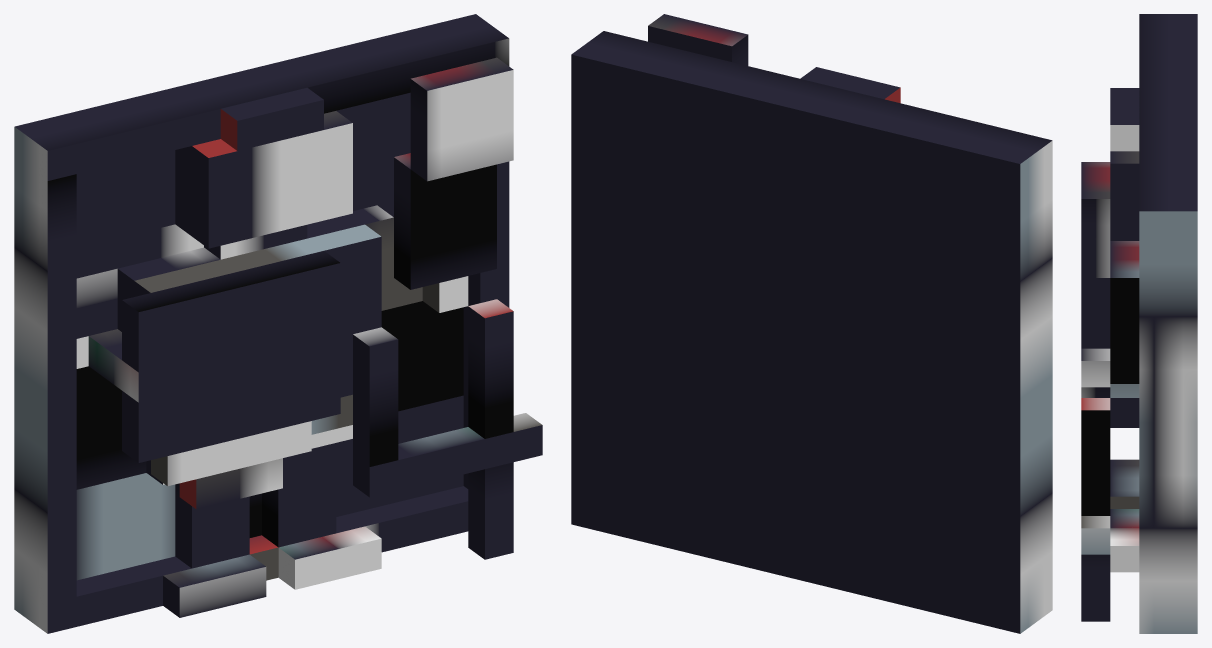
The model's file is hero4.fbx.
The picture shows the model from 3 angles, left to right: view 1: azimuth 30°, elevation 25°; view 2: azimuth 150°, elevation 25°; view 3: azimuth 270°, elevation 25°; orthographic projection. The views are drawn at different scales.
Visible parts, largest first — view 1: hero4; view 2: hero4; view 3: hero4.
Part boxes in pixels (x1,y1,x2,y2): hero4: (14, 14, 542, 633); hero4: (571, 14, 1052, 633); hero4: (1081, 14, 1197, 633).
Size of the model in its own units: 16 by 16 by 4.
